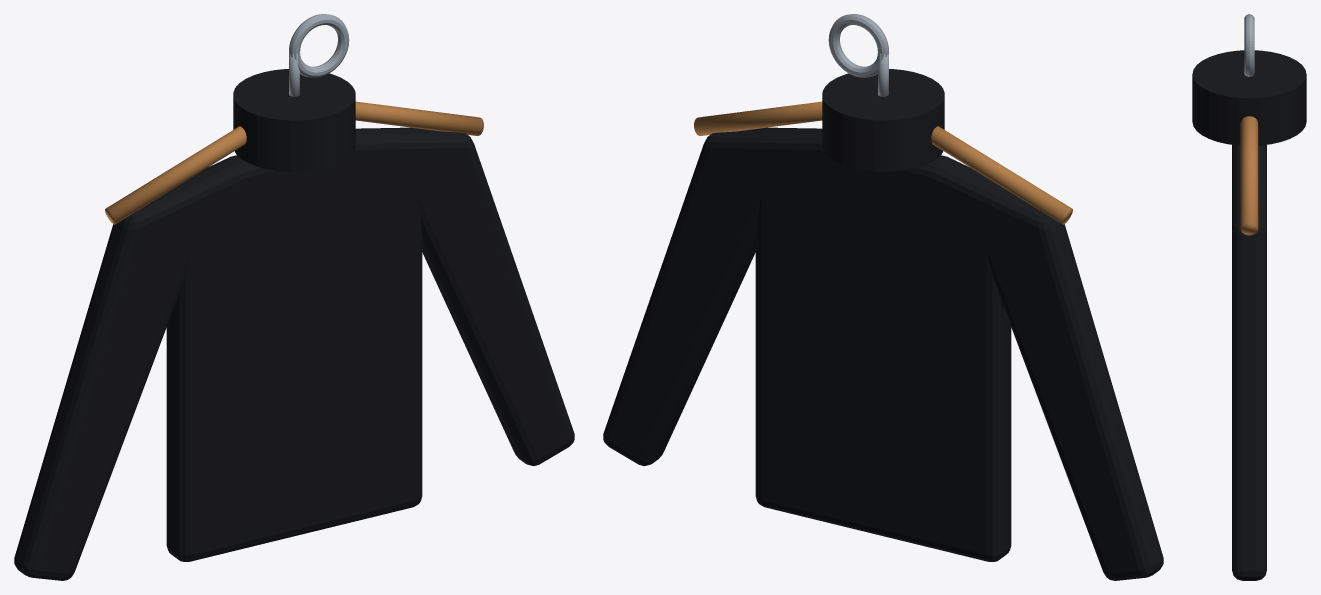
File: sueter_colgado.glb
3 renders of one model, left to right at view 1: azimuth 30°, elevation 25°; view 2: azimuth 150°, elevation 25°; view 3: azimuth 270°, elevation 25°, orthographic. The views are drawn at different scales.
Parts seen in each view (by area): view 1: sueter, Cylinder, Cylinder.001, Cylinder.002, Torus.008; view 2: sueter, Cylinder, Cylinder.001, Cylinder.002, Torus.008; view 3: sueter, Cylinder, Cylinder.002, Torus.008.
Part boxes in pixels (x1,y1,x2,y2): sueter: (14, 127, 574, 580); Cylinder: (233, 69, 355, 171); Cylinder.001: (105, 126, 246, 224); Cylinder.002: (355, 101, 483, 135); Torus.008: (289, 14, 349, 77); sueter: (603, 127, 1163, 580); Cylinder: (822, 69, 944, 171); Cylinder.001: (931, 126, 1072, 224); Cylinder.002: (694, 101, 822, 135); Torus.008: (828, 14, 888, 77); sueter: (1232, 145, 1266, 580); Cylinder: (1192, 50, 1306, 145); Cylinder.002: (1240, 116, 1258, 235); Torus.008: (1244, 14, 1254, 76).
Bounding box in the file's own units: 1.35 × 1.19 × 0.26.
